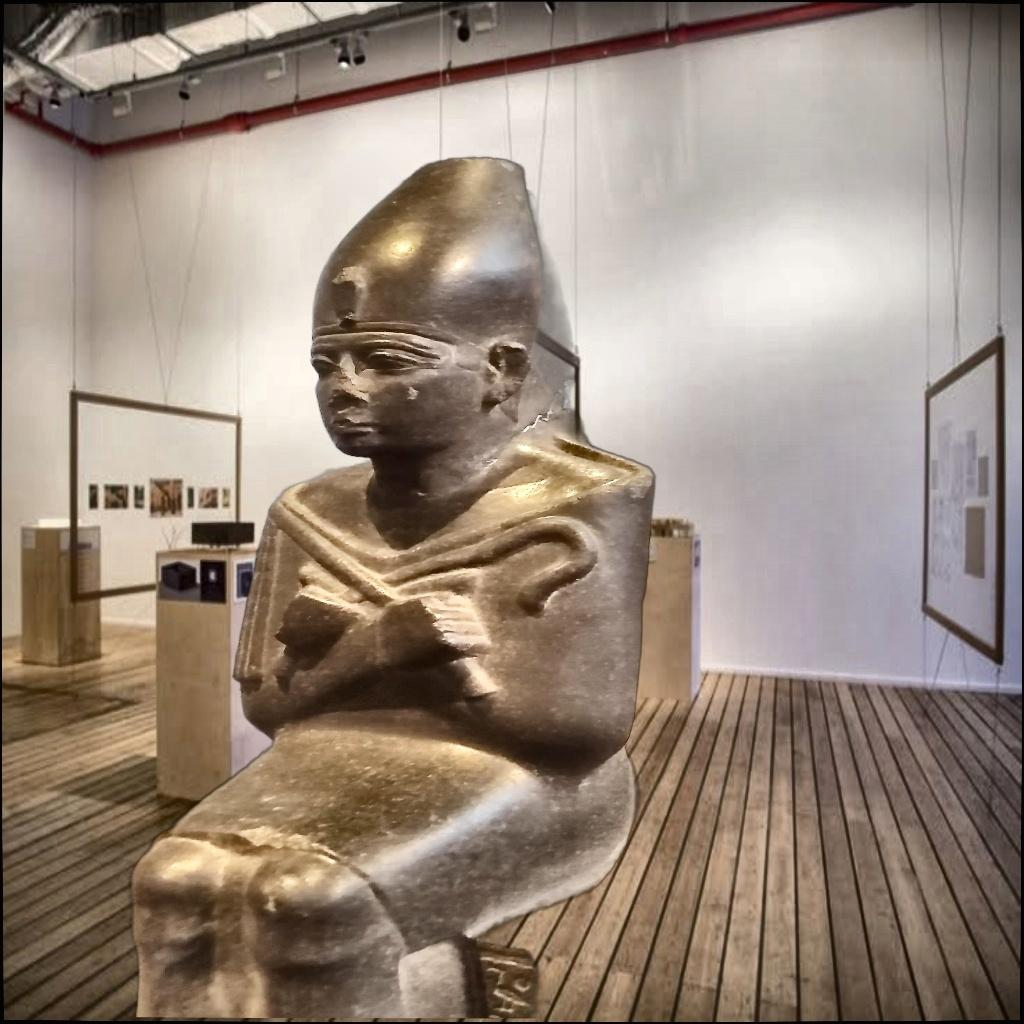Statue of Sobekhotep V: (126, 154, 660, 1018)
